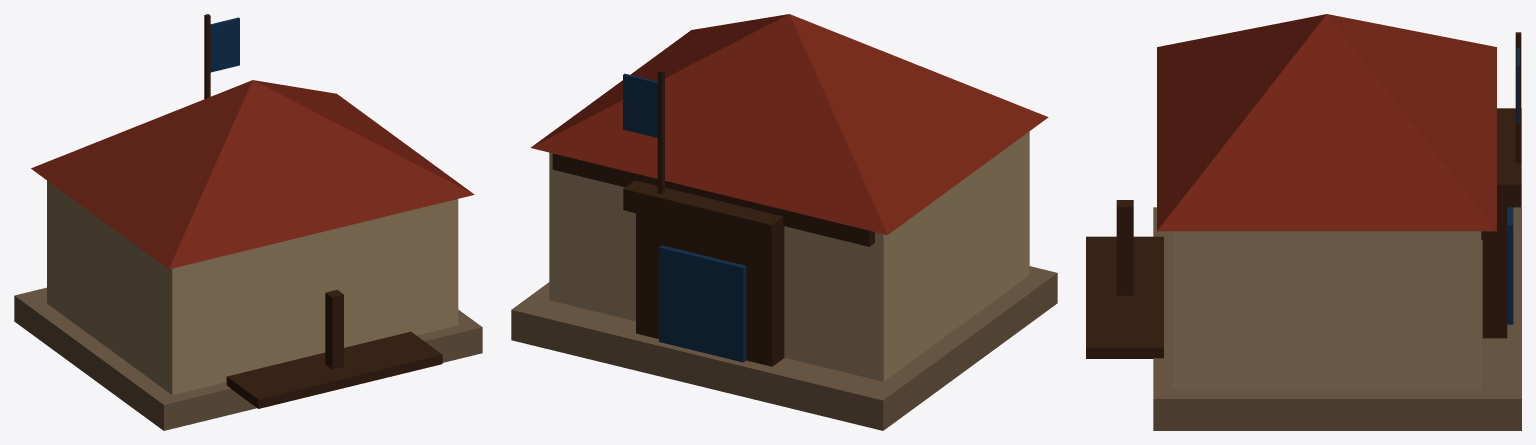
Rendered from Barracks_authoring.obj.
The picture shows the model from 3 angles, left to right: view 1: azimuth 30°, elevation 25°; view 2: azimuth 150°, elevation 25°; view 3: azimuth 270°, elevation 25°; orthographic projection. The views are drawn at different scales.
Parts seen in each view (by area): view 1: BarracksWalls, Roof, Foundation, TrainingYard, Banner, TrainingPost, BannerPole; view 2: Roof, BarracksWalls, Foundation, EntranceFrame, Gate, GateLintel, TimberBeam, Banner, BannerPole; view 3: Roof, BarracksWalls, Foundation, TrainingYard, EntranceFrame, GateLintel, TrainingPost, Gate, BannerPole.
Part boxes in pixels (left/top/right/bottom): BarracksWalls: left=47, top=180, right=458, bottom=394; Roof: left=31, top=80, right=474, bottom=269; Foundation: left=14, top=287, right=482, bottom=430; TrainingYard: left=226, top=331, right=442, bottom=408; Banner: left=210, top=17, right=239, bottom=72; TrainingPost: left=325, top=290, right=343, bottom=369; BannerPole: left=204, top=14, right=210, bottom=98; Roof: left=530, top=14, right=1048, bottom=234; BarracksWalls: left=549, top=131, right=1029, bottom=381; Foundation: left=511, top=266, right=1057, bottom=430; EntranceFrame: left=636, top=213, right=784, bottom=366; Gate: left=659, top=245, right=746, bottom=362; GateLintel: left=623, top=180, right=783, bottom=246; TimberBeam: left=552, top=153, right=874, bottom=246; Banner: left=623, top=73, right=657, bottom=137; BannerPole: left=657, top=69, right=664, bottom=193; Roof: left=1157, top=14, right=1496, bottom=231; BarracksWalls: left=1173, top=231, right=1481, bottom=388; Foundation: left=1153, top=207, right=1521, bottom=430; TrainingYard: left=1086, top=236, right=1163, bottom=358; EntranceFrame: left=1482, top=207, right=1507, bottom=338; GateLintel: left=1497, top=108, right=1521, bottom=207; TrainingPost: left=1116, top=200, right=1133, bottom=295; Gate: left=1507, top=207, right=1513, bottom=324; BannerPole: left=1515, top=32, right=1521, bottom=162.
Size of the model in its own units: 6.4 by 5 by 6.15.
